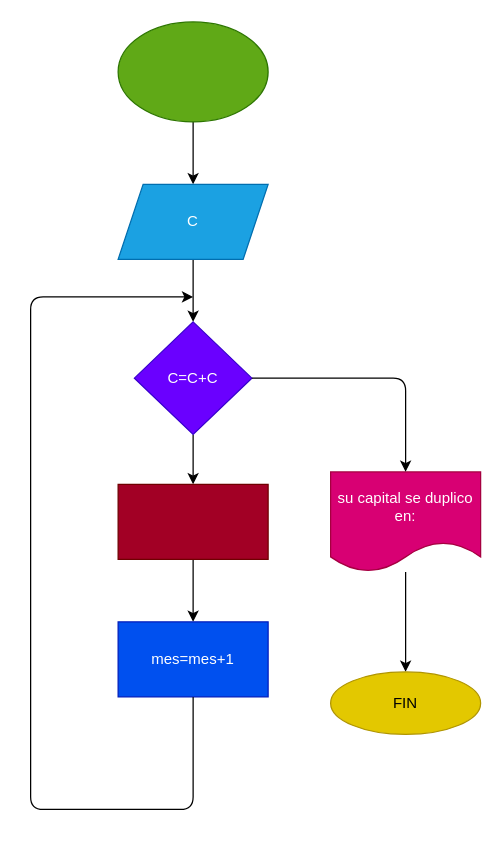
The diagram is 503 pixels wide and 841 high, and some of its shapes have lost their labels. The centre of each missing label's shape, as x and y in pixels:
INICIO: the point at 192,71
intereses= c*0.05 c= c+intereses: the point at 192,521
